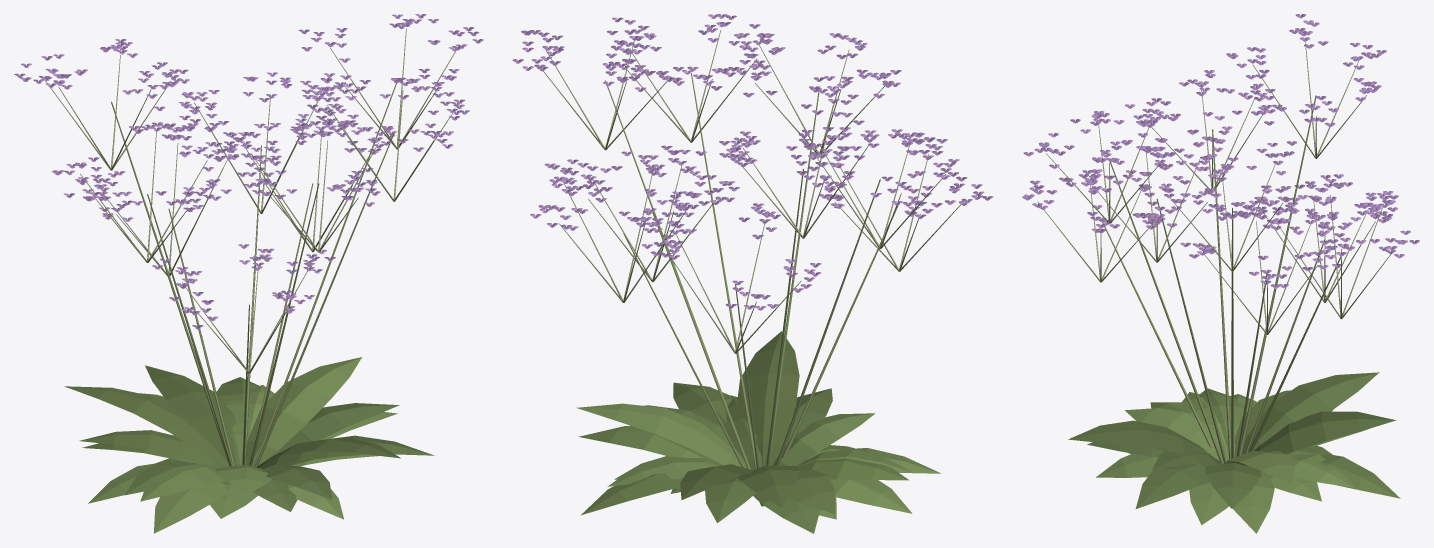
Rendered from limonium-perezii-light.glb.
The picture shows the model from 3 angles, left to right: view 1: azimuth 30°, elevation 25°; view 2: azimuth 150°, elevation 25°; view 3: azimuth 270°, elevation 25°; orthographic projection. The views are drawn at different scales.
Visible parts, largest first — view 1: Limonium perezii • basal rosette, Limonium perezii • branched violet sprays, Limonium perezii • flower stems; view 2: Limonium perezii • basal rosette, Limonium perezii • branched violet sprays, Limonium perezii • flower stems; view 3: Limonium perezii • basal rosette, Limonium perezii • branched violet sprays, Limonium perezii • flower stems.
Boxes of the visible parts, x1,y1,x2,y2 form: Limonium perezii • basal rosette: (64,357,434,533); Limonium perezii • branched violet sprays: (14,14,483,329); Limonium perezii • flower stems: (45,28,455,467); Limonium perezii • basal rosette: (576,331,940,533); Limonium perezii • branched violet sprays: (512,14,993,310); Limonium perezii • flower stems: (543,30,963,506); Limonium perezii • basal rosette: (1068,372,1400,533); Limonium perezii • branched violet sprays: (1022,14,1419,288); Limonium perezii • flower stems: (1037,38,1391,463).
Bounding box in the file's own units: 0.7838 × 0.7721 × 0.6868.
